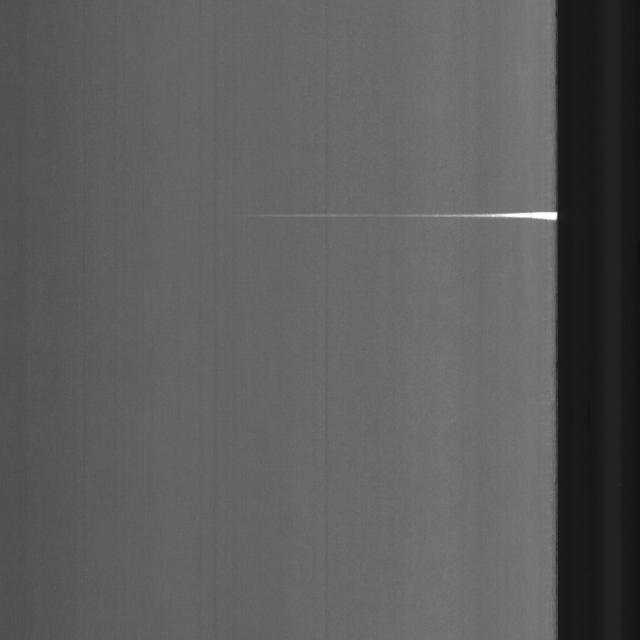rolled_pit: (190, 166, 555, 252)
